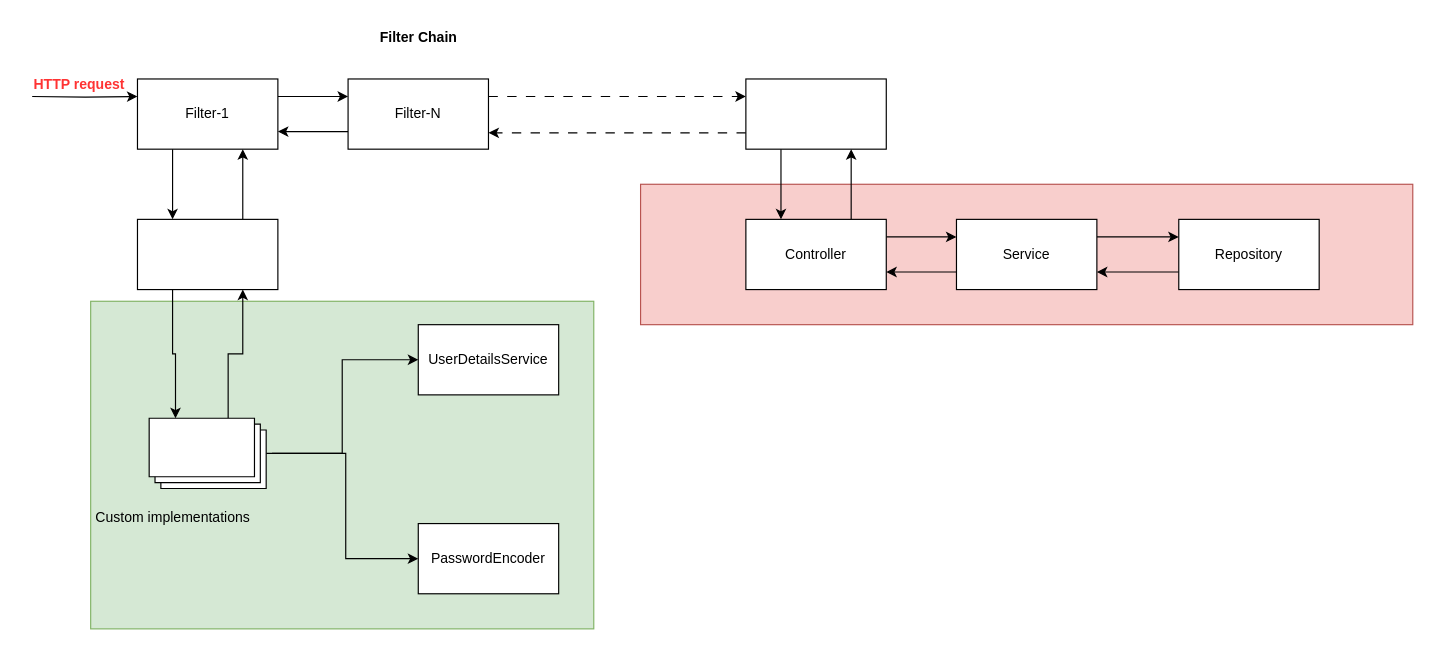
Some shapes in this 1433 by 649 pixel diagram are drawn without their labels. Here are the shapes that lost their labels. From the top down, the centre of each, then its label:
At point (815, 113): "Servlet".
At point (207, 254): "Auth Manager".
At point (207, 452): "Auth Providers".
